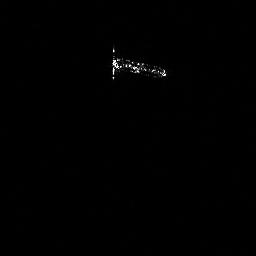ship: (111, 46, 168, 83)
